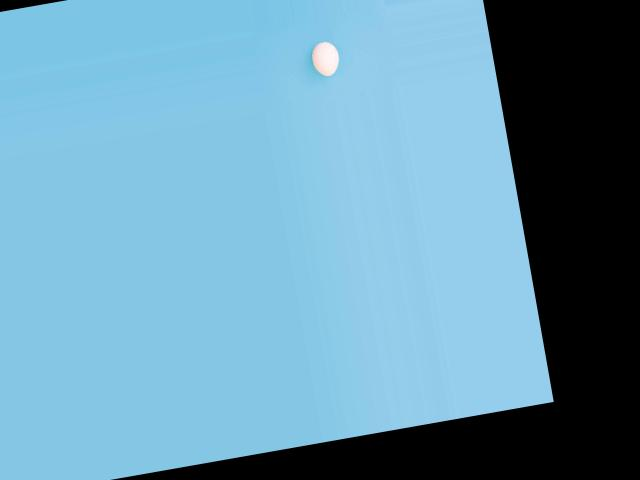egg: (309, 39, 341, 78)
